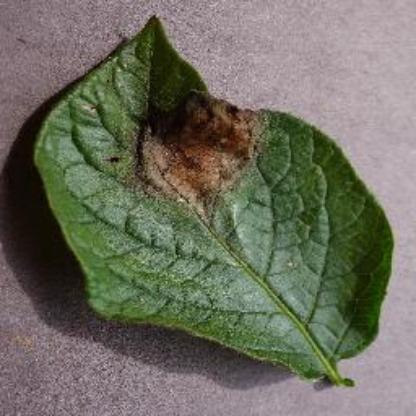Late-Blight: (34, 13, 392, 390)
